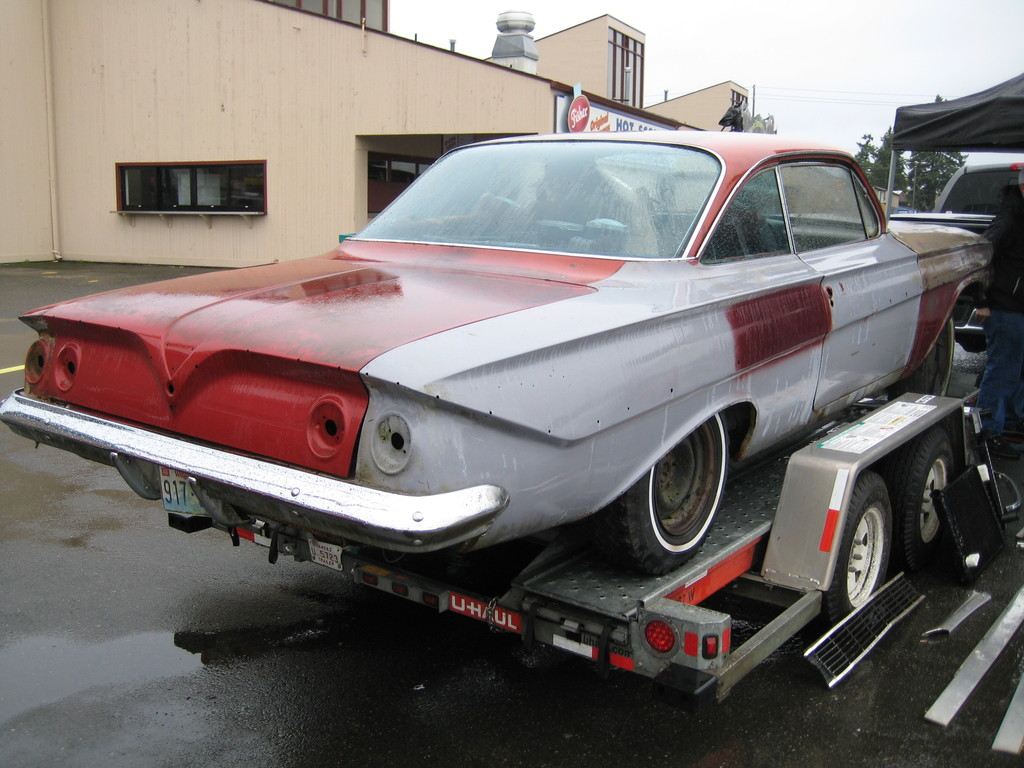Car: (0, 124, 997, 576), (931, 159, 1023, 214)
